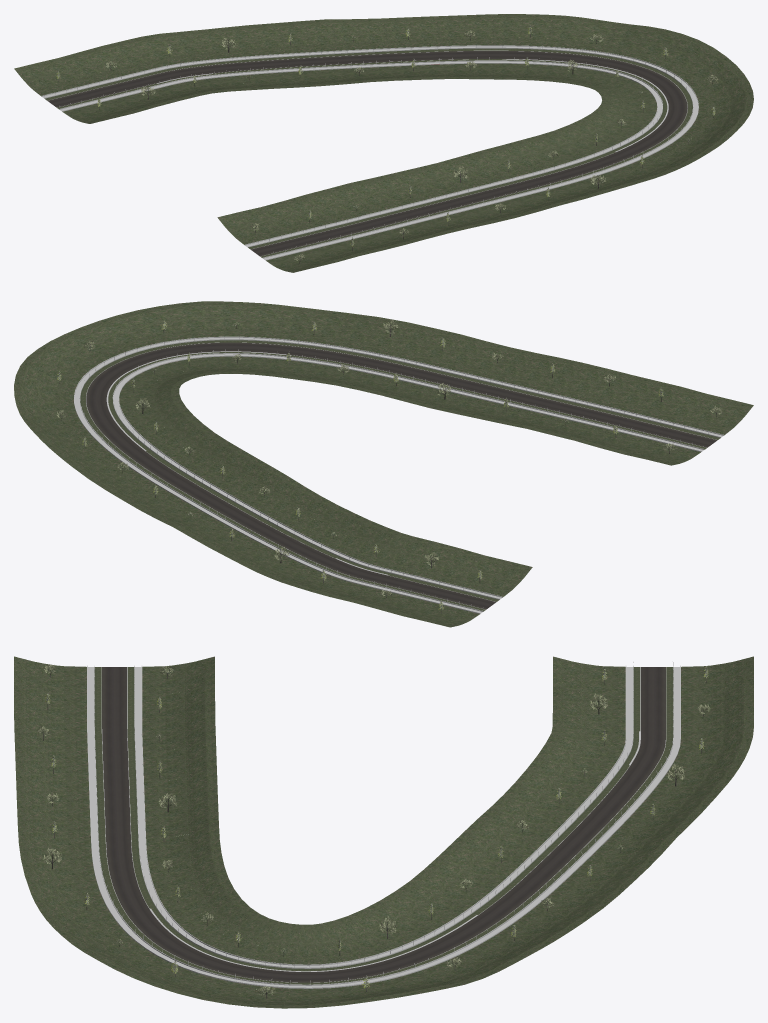
3 renders of one model, top to bottom at view 1: azimuth 30°, elevation 25°; view 2: azimuth 150°, elevation 25°; view 3: azimuth 270°, elevation 25°, orthographic. The views are drawn at different scales.
Visible parts, largest first — view 1: Grass, Road, Track, Trees; view 2: Grass, Road, Track, Trees; view 3: Grass, Road, Track, Trees.
Boxes of the visible parts, <box> form: Grass: <box>14,14,753,272</box>; Road: <box>47,51,687,256</box>; Track: <box>41,45,698,260</box>; Trees: <box>56,25,718,263</box>; Grass: <box>14,301,753,627</box>; Road: <box>86,342,717,609</box>; Track: <box>74,336,723,613</box>; Trees: <box>56,320,721,613</box>; Grass: <box>14,656,753,1008</box>; Road: <box>102,667,665,982</box>; Track: <box>87,662,680,988</box>; Trees: <box>37,665,710,998</box>.
Bounding box in the file's own units: 58117 × 1980 × 51500.
